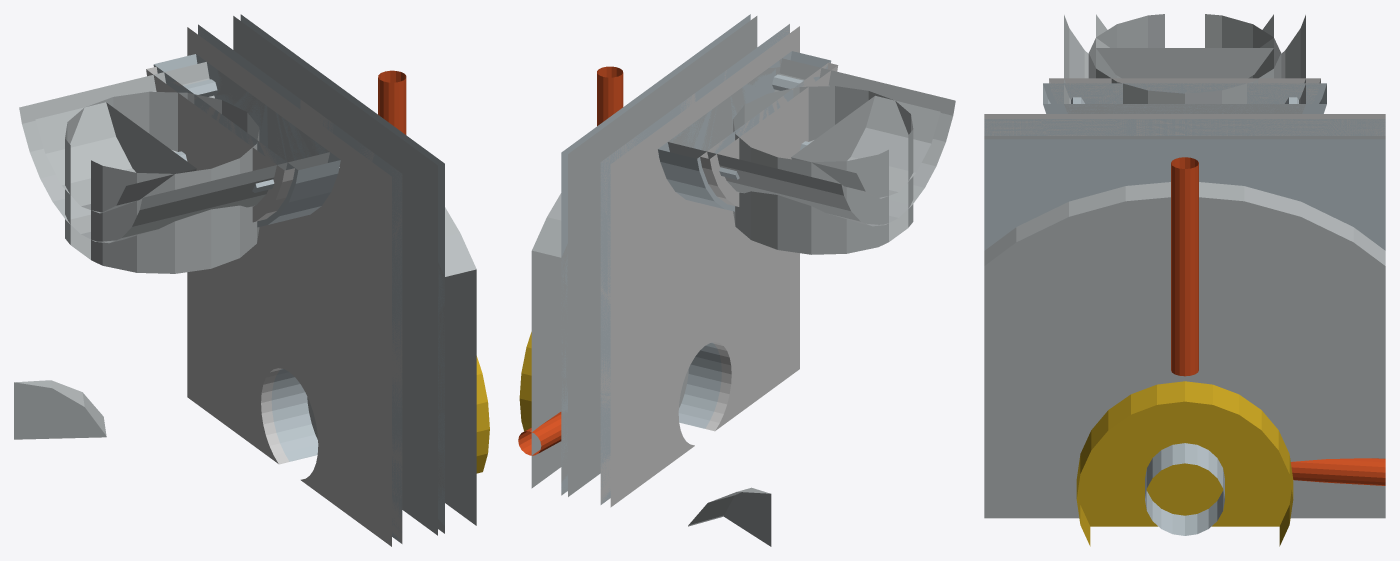
The model's file is cell_86.obj.
3 views of the same model, side by side, from view 1: azimuth 30°, elevation 25°; view 2: azimuth 150°, elevation 25°; view 3: azimuth 270°, elevation 25° (orthographic). The views are drawn at different scales.
Size of the model in its own units: 1 by 1 by 1.
